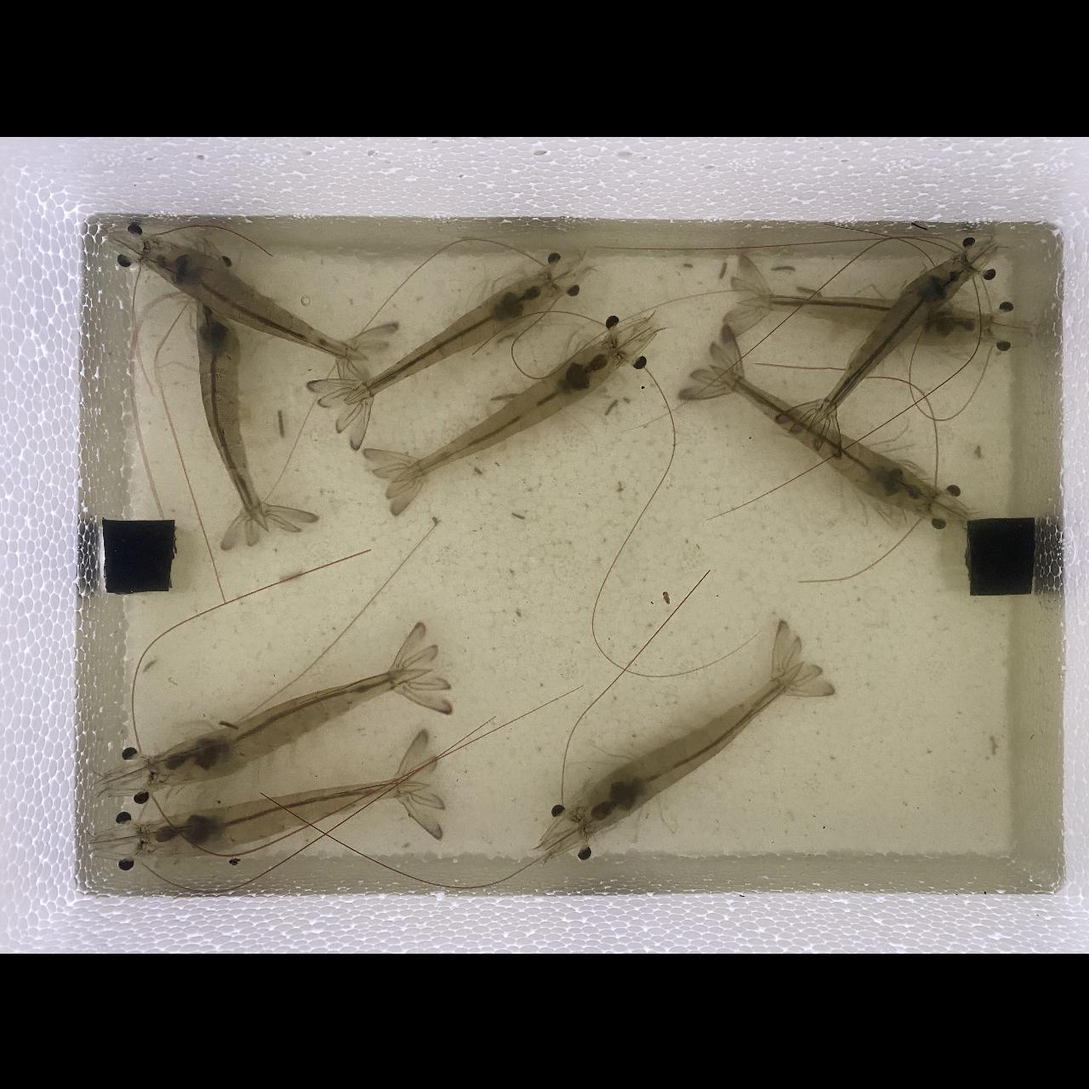box: (966, 519, 1036, 596), (100, 519, 175, 590)
top_shrimp: (575, 662, 798, 829), (150, 665, 420, 784), (391, 340, 618, 480), (713, 366, 927, 510), (141, 238, 364, 359), (339, 276, 553, 400), (818, 255, 970, 413), (134, 781, 415, 854), (196, 286, 264, 526), (736, 295, 987, 342)
